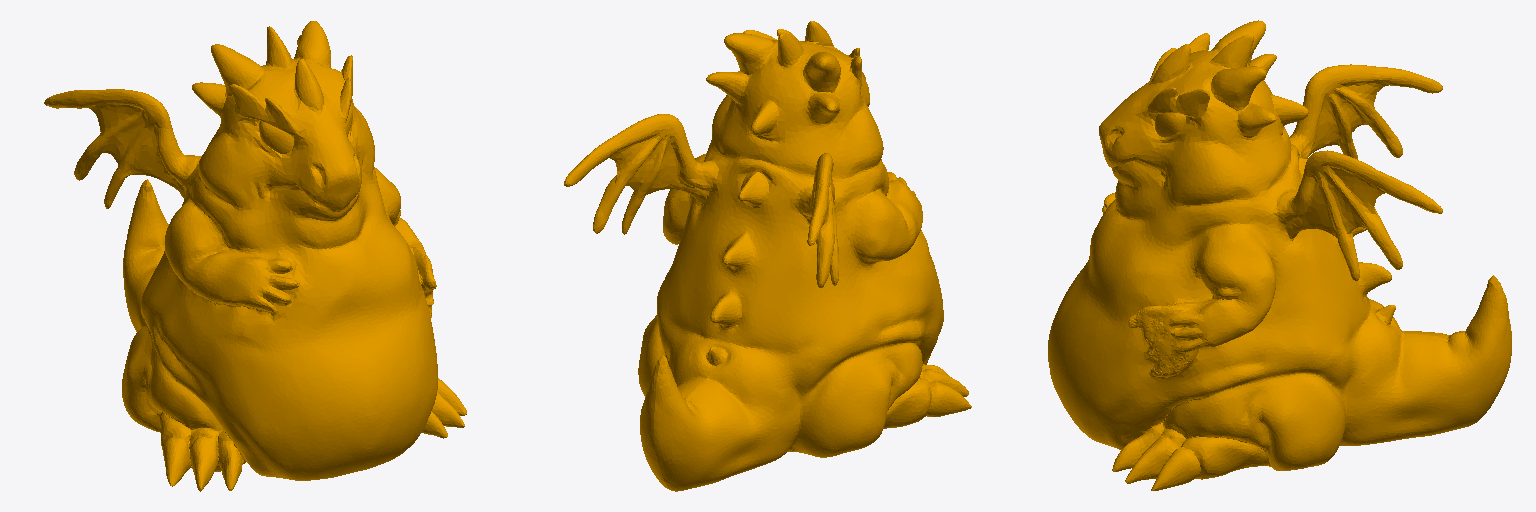
The robot description file, URDF, robot "39507":
<?xml version='1.0'?>

<robot name="39507">
    <static>false</static>
    <link name="link">
        <inertial>
            <mass value="0.037341402870576294"/>
            <inertia ixx="3.0662801255199375e-05" ixy="4.873466056789578e-09" ixz="-5.852387624535304e-08"
                     iyy="2.4855877953527554e-05" iyz="1.9639651096295506e-06" izz="2.0344196034407003e-05"/>
        </inertial>
        <collision name="collision">
            <geometry>
                <mesh filename="package://miscnet/train/39507/collision_model_vhacd.obj"/>
            </geometry>
        </collision>
        <visual name="visual">
            <geometry>
                <mesh filename="package://miscnet/train/39507/visual_model.obj"/>
            </geometry>
        </visual>
    </link>
</robot>

--- What the picture shows (computed from the rendered views, not written in the file) ---
3 views of the same robot in one strip: view 1: azimuth 30°, elevation 25°; view 2: azimuth 150°, elevation 25°; view 3: azimuth 270°, elevation 25° (orthographic).
Robot: 39507 — 1 links, 0 joints (none); root link link; default pose: all joints at 0.
Visible links, largest first — view 1: link; view 2: link; view 3: link.
Link boxes in pixels (x1=…): link: x1=44, y1=21, x2=466, y2=491; link: x1=564, y1=21, x2=971, y2=491; link: x1=1048, y1=20, x2=1511, y2=490.
Bounding box of the posed robot: 0.075 × 0.1023 × 0.0963 m (x, y, z).
Meshes: 1 distinct files referenced, 1 mesh visuals loaded (1 OBJ).
